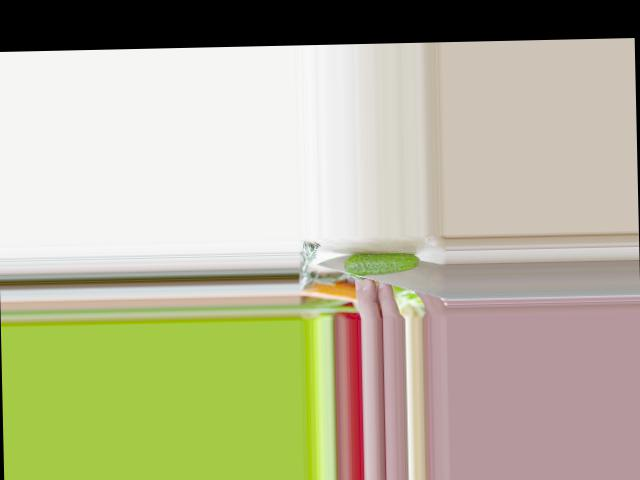cucumber: (343, 251, 419, 275)
